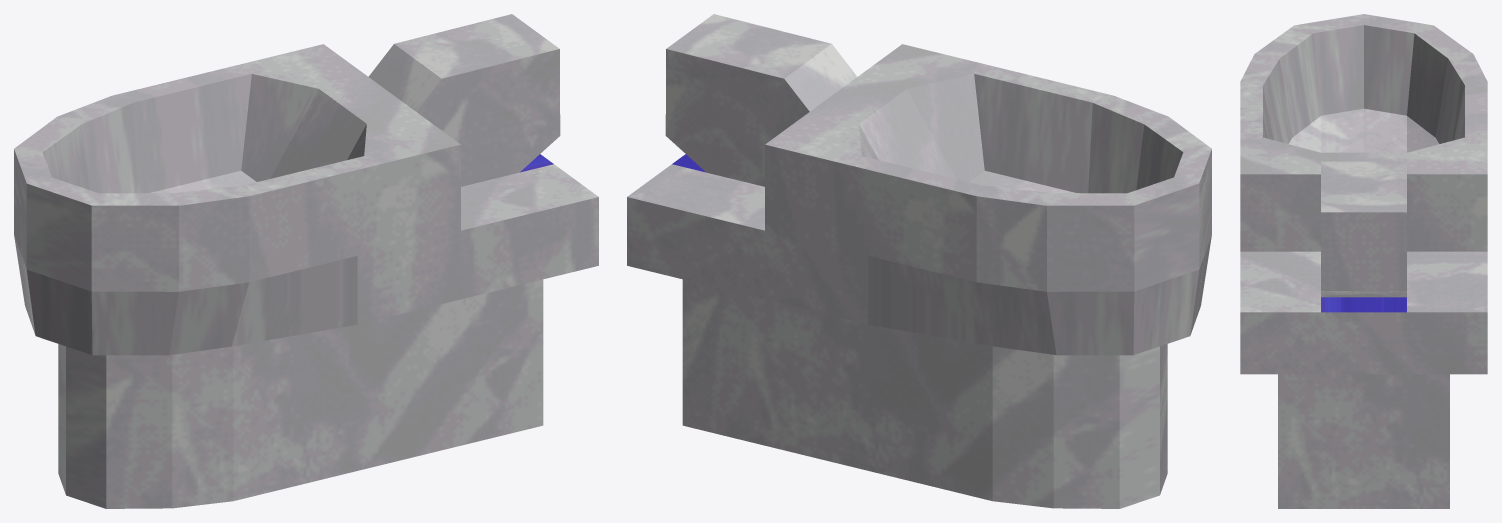
Rendered from ToiletBR.fbx.
The picture shows the model from 3 angles, left to right: view 1: azimuth 30°, elevation 25°; view 2: azimuth 150°, elevation 25°; view 3: azimuth 270°, elevation 25°; orthographic projection. The views are drawn at different scales.
Visible parts, largest first — view 1: Toilet; view 2: Toilet; view 3: Toilet.
Boxes of the visible parts, left/top/right/bottom form: Toilet: left=14, top=14, right=598, bottom=508; Toilet: left=627, top=14, right=1211, bottom=508; Toilet: left=1240, top=14, right=1487, bottom=508.
Size of the model in its own units: 247 by 162 by 115.
Materials: 1 (1 with a texture image).
